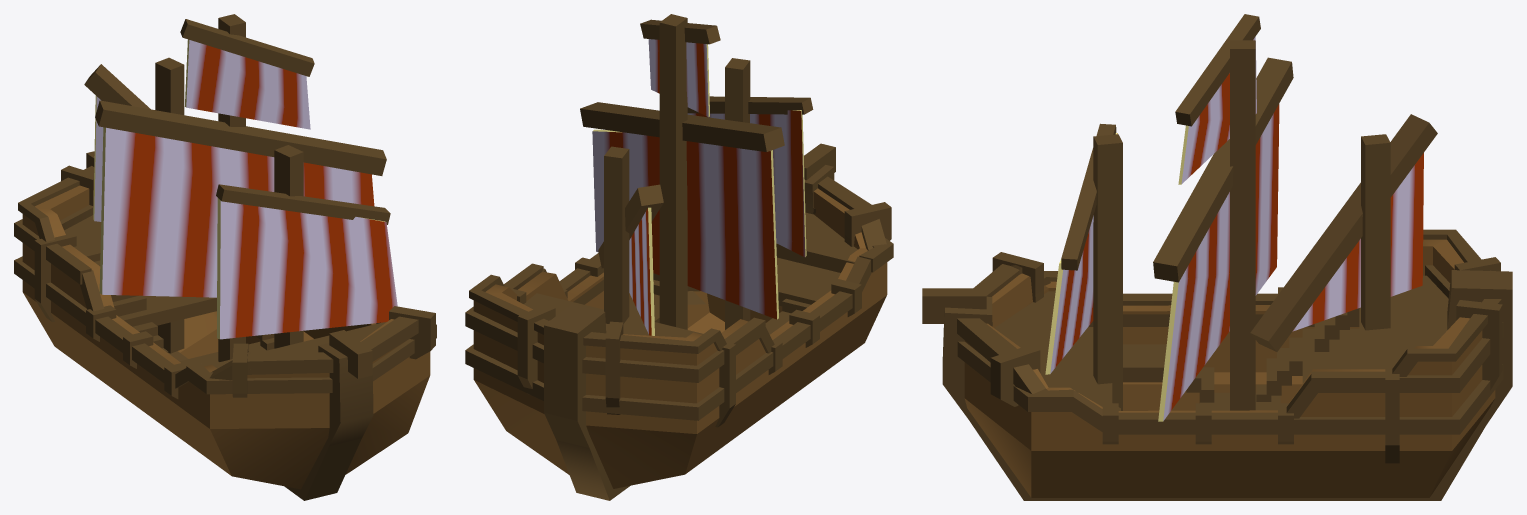
File: merchantship_player.fbx
3 renders of one model, left to right at view 1: azimuth 30°, elevation 25°; view 2: azimuth 150°, elevation 25°; view 3: azimuth 270°, elevation 25°, orthographic. The views are drawn at different scales.
Visible parts, largest first — view 1: polySurface393; view 2: polySurface393; view 3: polySurface393.
Boxes of the visible parts, x1,y1,x2,y2 form: polySurface393: (14, 14, 436, 500); polySurface393: (465, 14, 893, 500); polySurface393: (922, 14, 1512, 500).
Size of the model in its own units: 124 by 196 by 228.
1 material, 1 textured.
